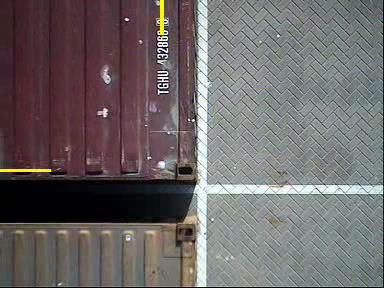groundmarker_2: (161, 175, 254, 244)
